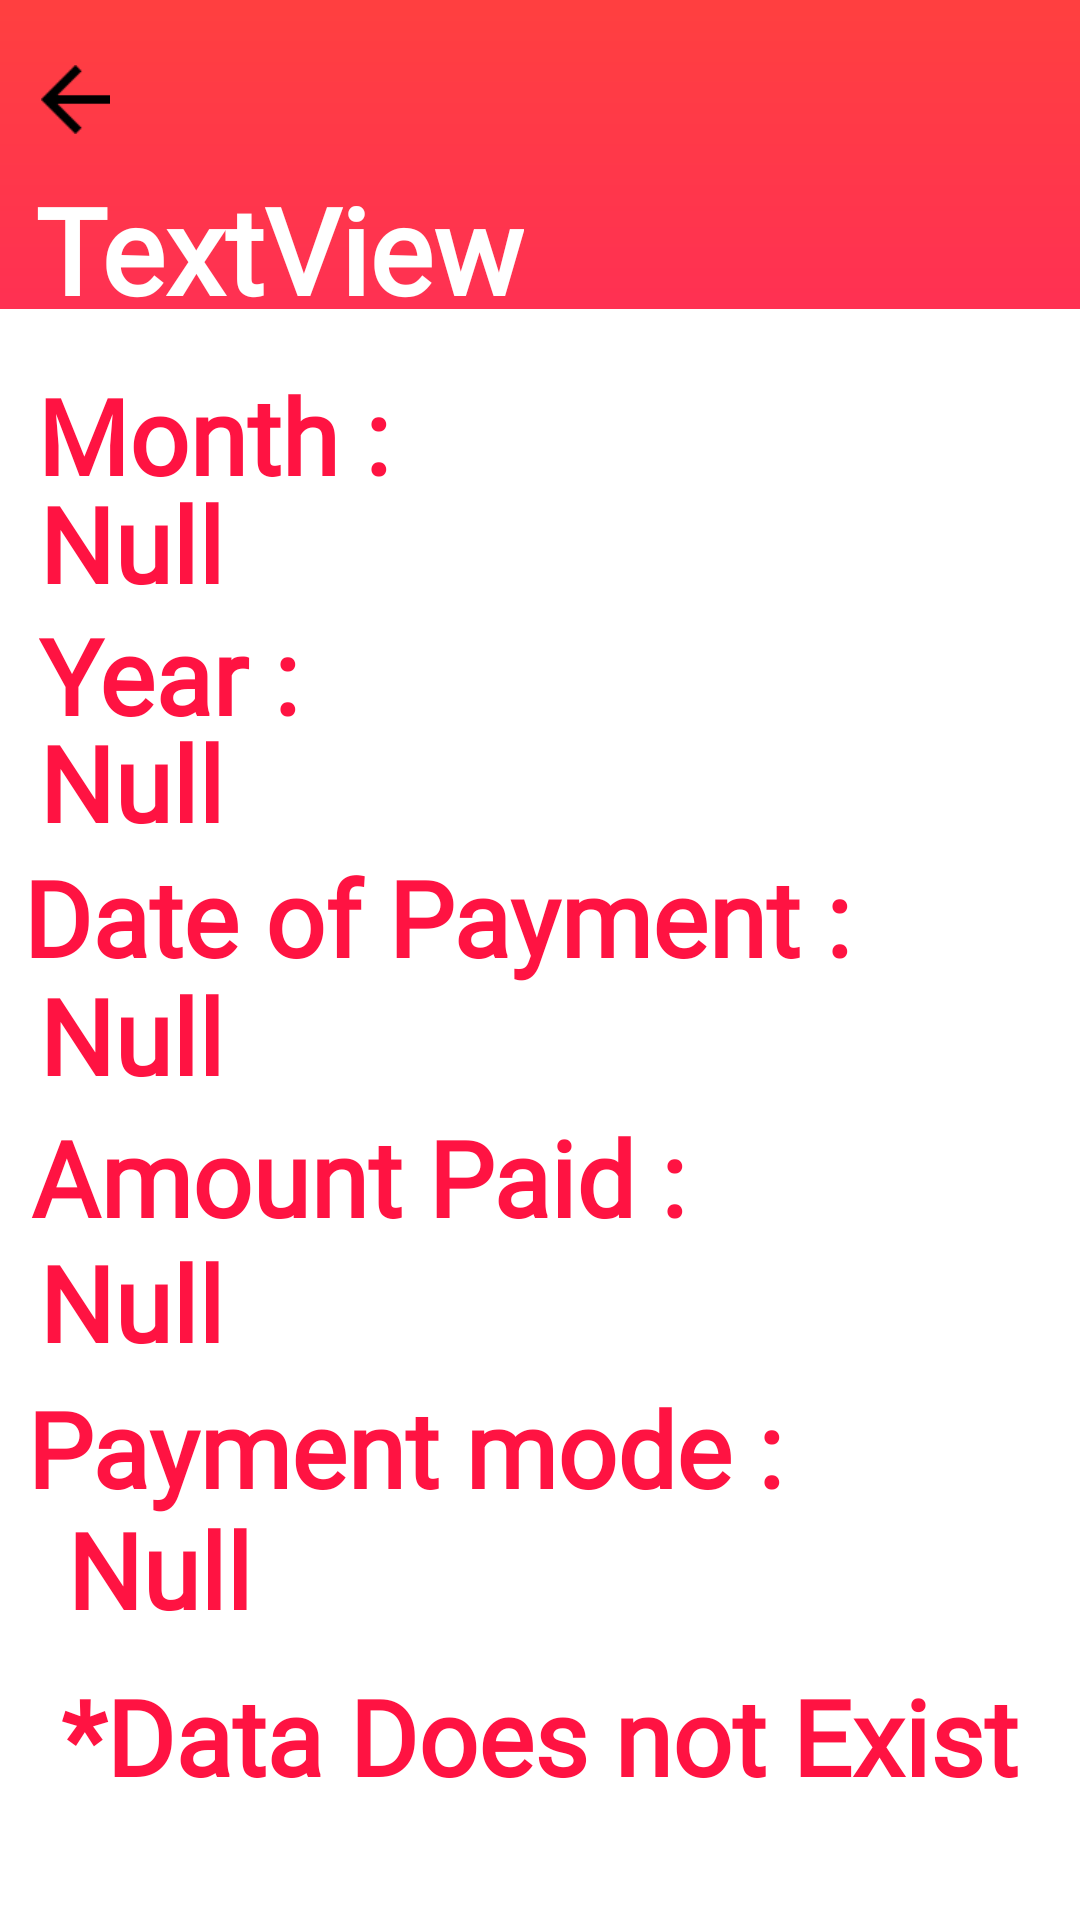

Screen size 1080*1920. Icon name, then its center in pixels as point (x, y):
back: point (75, 99)
